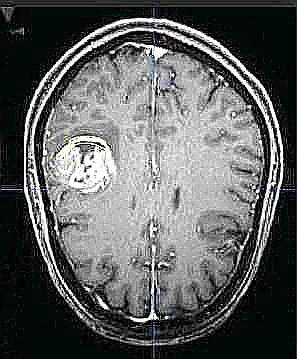Tumor: (42, 132, 126, 203)
